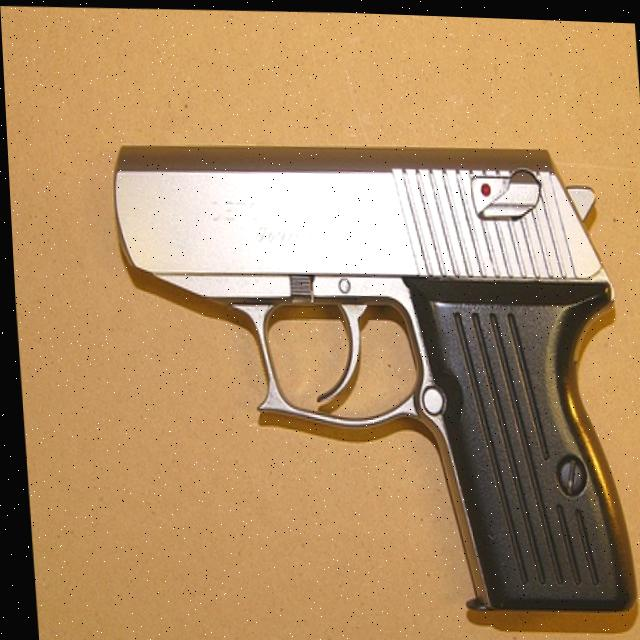pistol: (108, 127, 633, 619)
